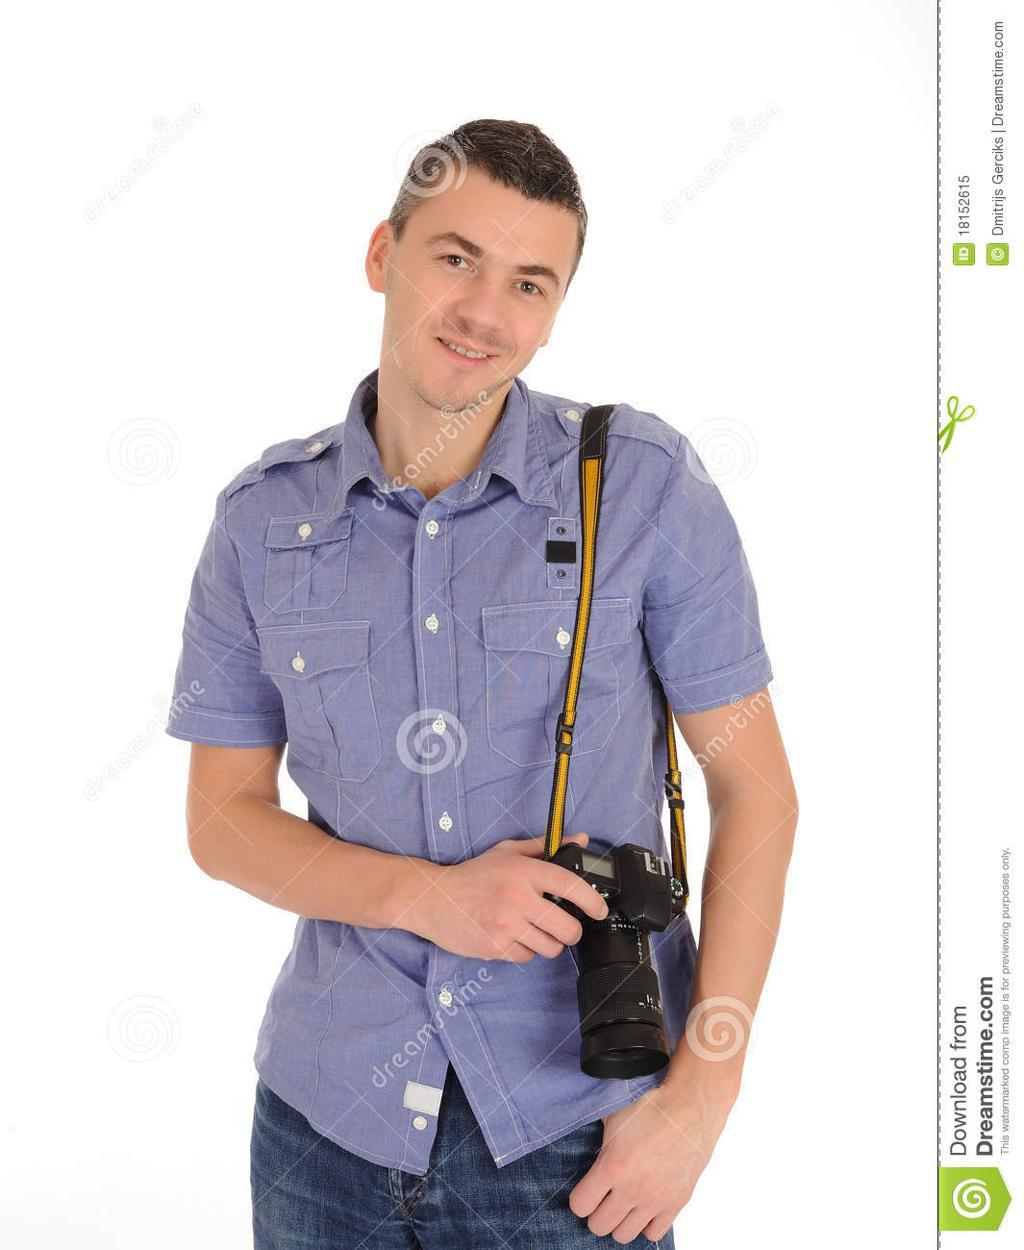face: (392, 160, 561, 414)
